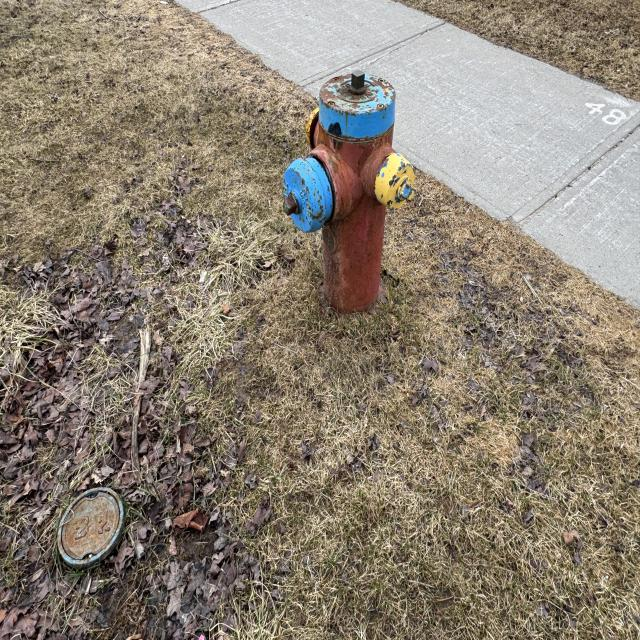Fire hydrant: (281, 70, 417, 324)
